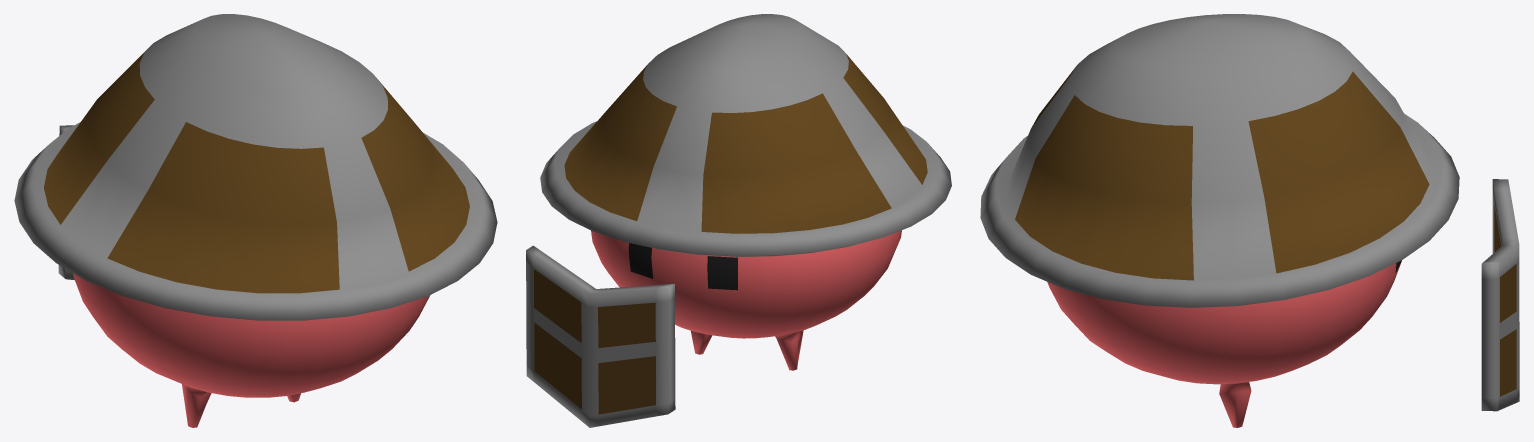
The model's file is Warrior.fbx.
The picture shows the model from 3 angles, left to right: view 1: azimuth 30°, elevation 25°; view 2: azimuth 150°, elevation 25°; view 3: azimuth 270°, elevation 25°; orthographic projection. The views are drawn at different scales.
Parts seen in each view (by area): view 1: Cube; view 2: Cube; view 3: Cube.
Part boxes in pixels (bbox=[...]): Cube: bbox=[14, 14, 497, 427]; Cube: bbox=[526, 14, 951, 427]; Cube: bbox=[980, 14, 1519, 427].
Bounding box in the file's own units: 247 × 217 × 276.
